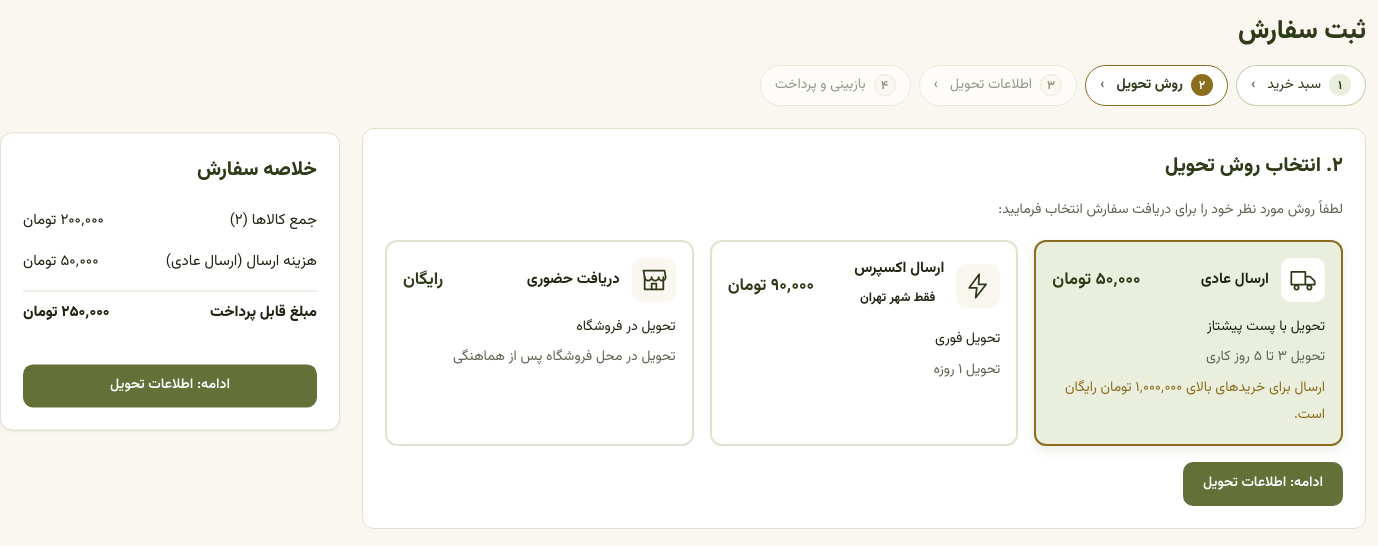
Redesigned Checkout Flow (Task 2) › Step 2 displays big cards with express Tehran-only badge, and updates invoice summary on selection
Check: the heading "۲. انتخاب روش تحویل" is shown, box [1165,150,1343,182]
Check: the heading "ارسال عادی" is shown, box [1201,268,1269,290]
Click the radio button labelled "ارسال اکسپرس" at (864, 343), box [710,240,1018,446]
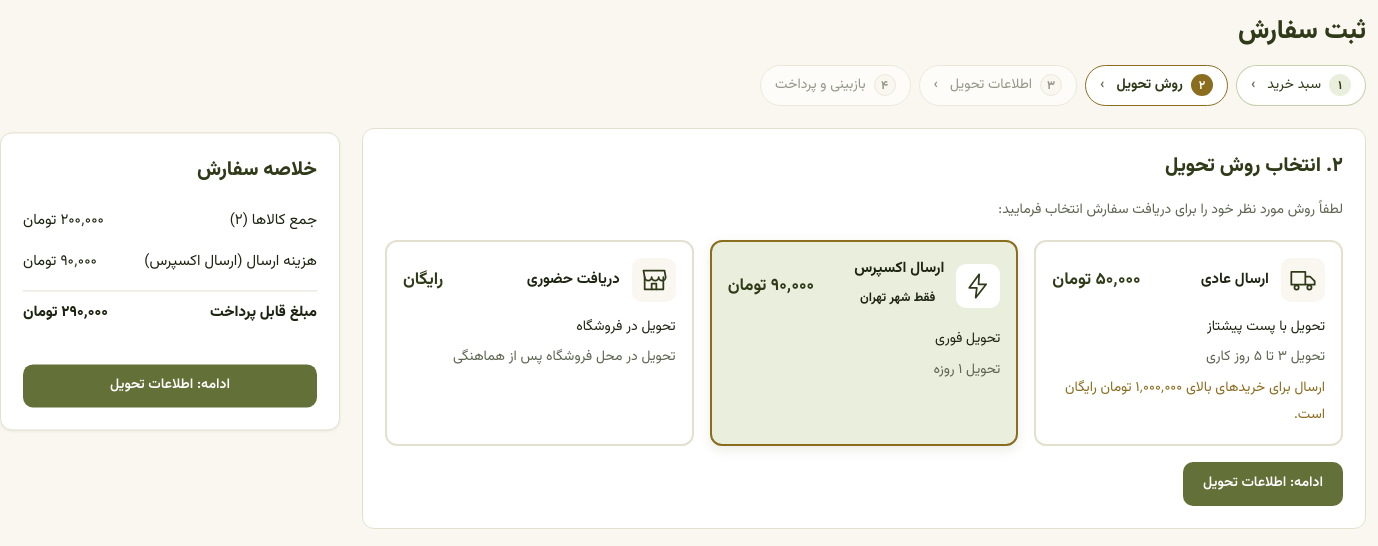
Check: the element with class "checkout__summary" shows "۹۰٬۰۰۰", box [23,250,97,273]
Check: the element with class "checkout__summary" shows "۲۹۰٬۰۰۰", box [61,302,108,325]
Click the radio button labelled "دریافت حضوری" at (539, 343), box [385,240,694,446]
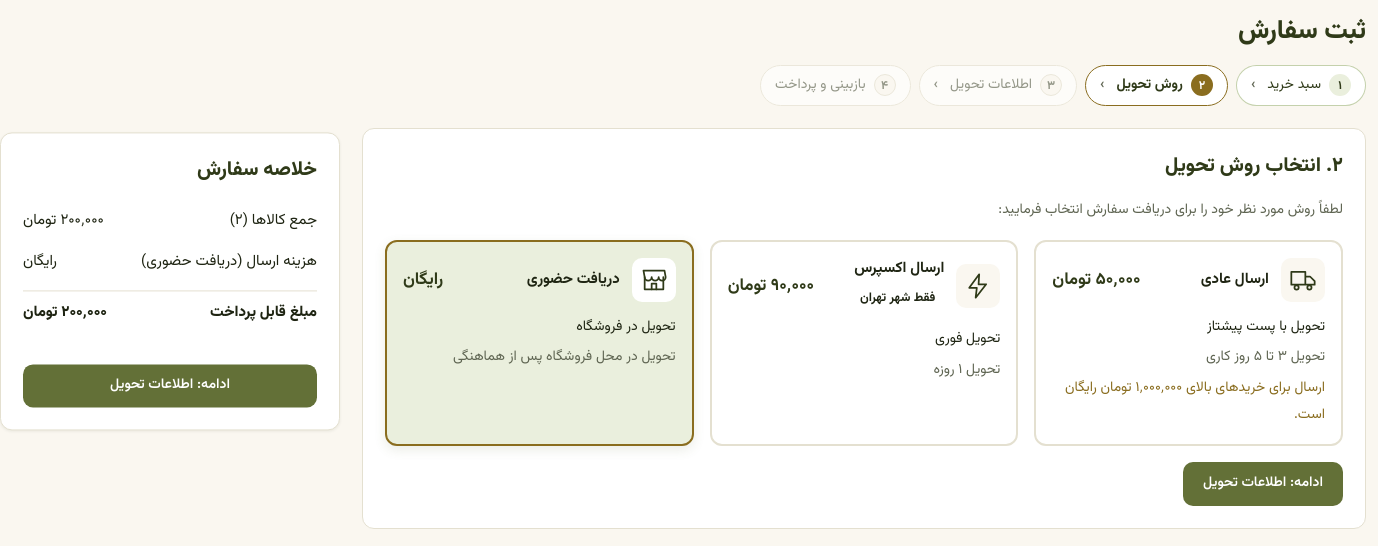
Check: the element with class "checkout__summary" shows "۲۰۰٬۰۰۰", box [60,210,104,233]
Check: the element with class "checkout__summary" shows "رایگان", box [23,250,57,273]
